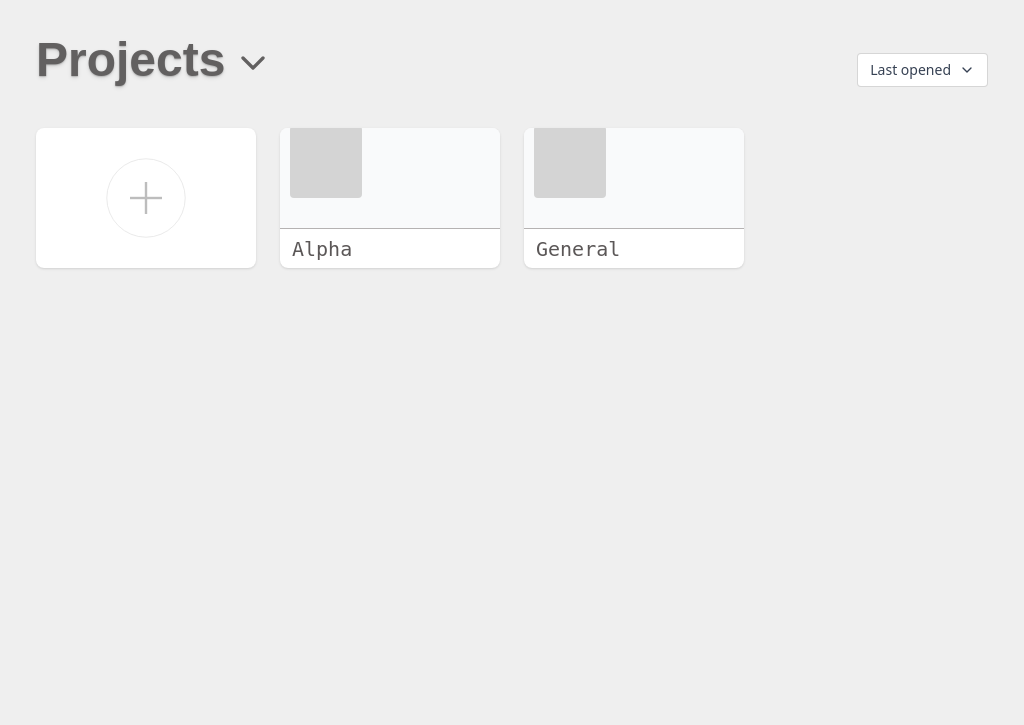
it: Projects Component › should open the ProjectCreator modal when the add button is clicked
Click the button named "Create new project" at [146, 198], box [36,128,256,268]
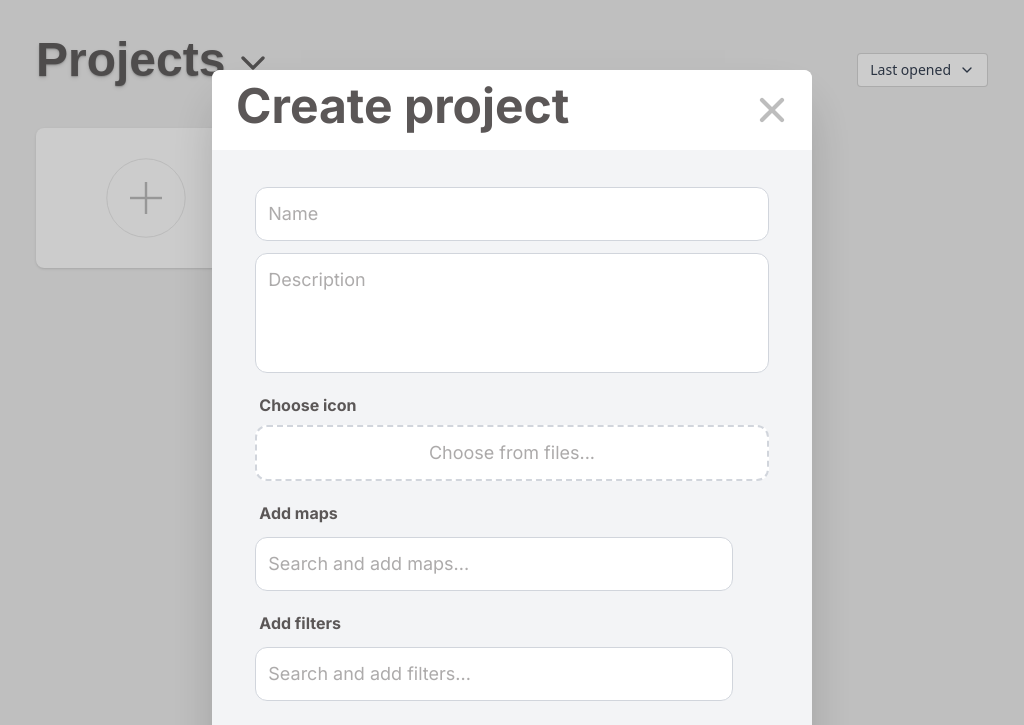
Now the heading "Create project" is shown, box [224,82,569,138]
